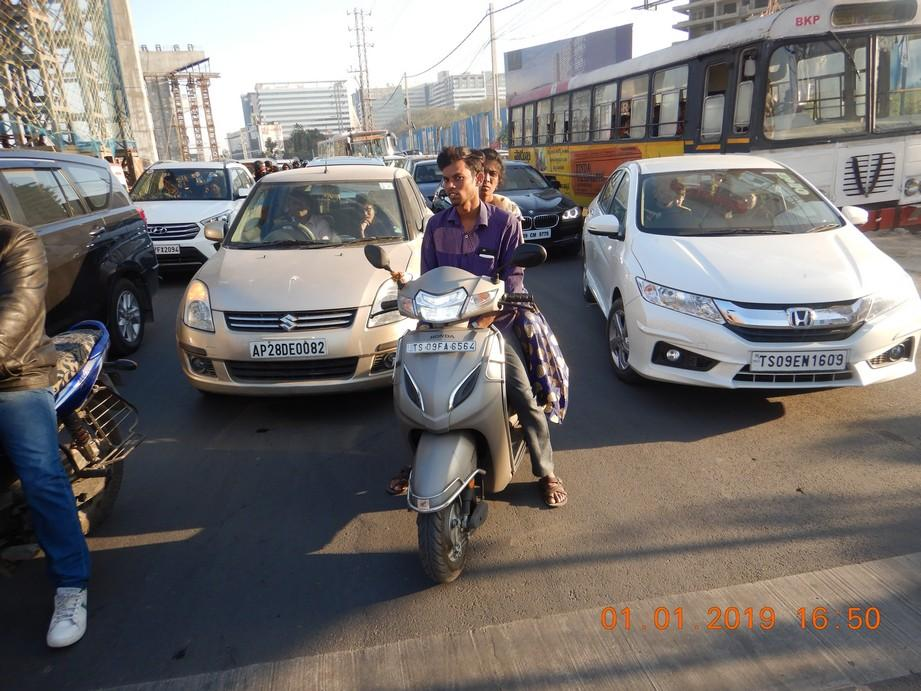plate: (406, 340, 478, 353)
